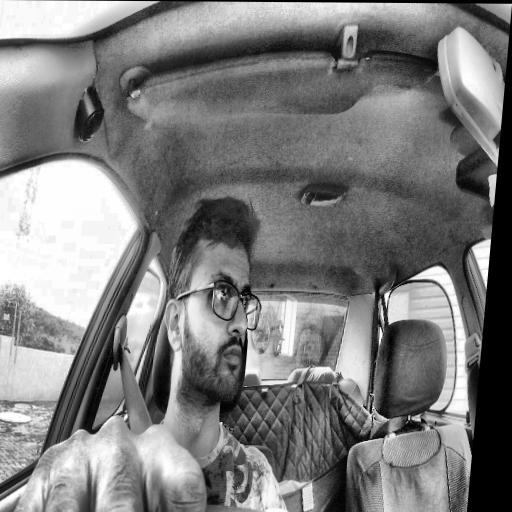awake: (156, 196, 271, 400)
